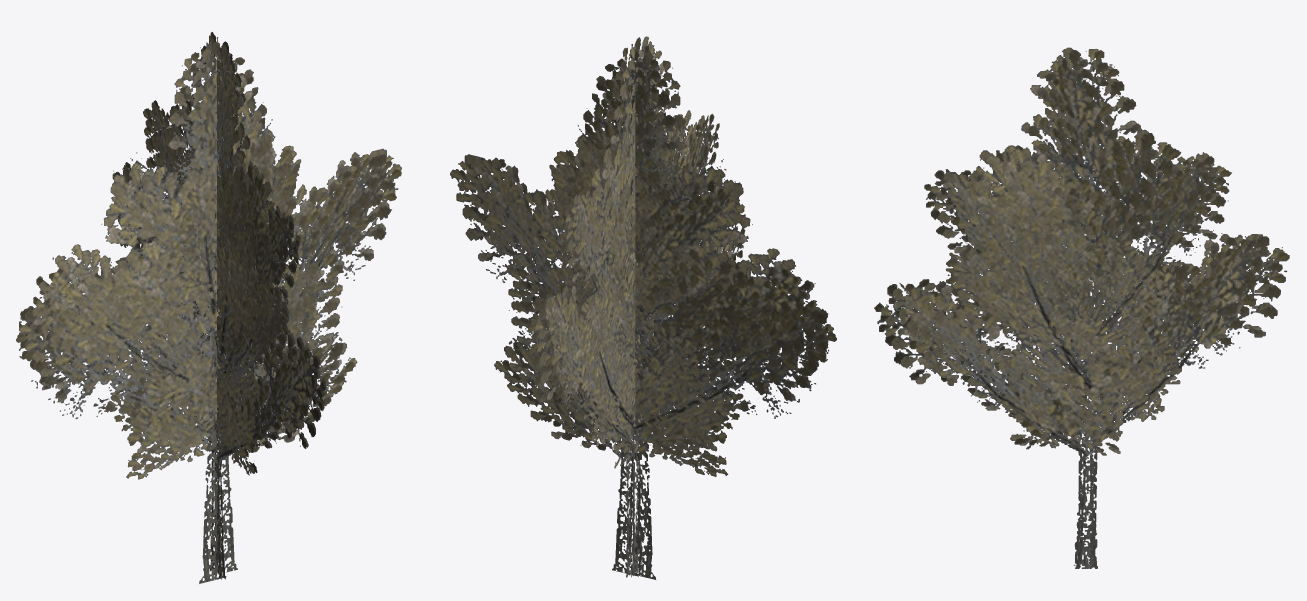
The model's file is Billboard_Oak_03.fbx.
3 renders of one model, left to right at view 1: azimuth 30°, elevation 25°; view 2: azimuth 150°, elevation 25°; view 3: azimuth 270°, elevation 25°, orthographic. The views are drawn at different scales.
Visible parts, largest first — view 1: Billboard_Oak_03; view 2: Billboard_Oak_03; view 3: Billboard_Oak_03.
Part boxes in pixels (bbox=[...]): Billboard_Oak_03: bbox=[16, 32, 401, 583]; Billboard_Oak_03: bbox=[450, 36, 836, 579]; Billboard_Oak_03: bbox=[874, 47, 1289, 568].
Size of the model in its own units: 276 by 359 by 263.
